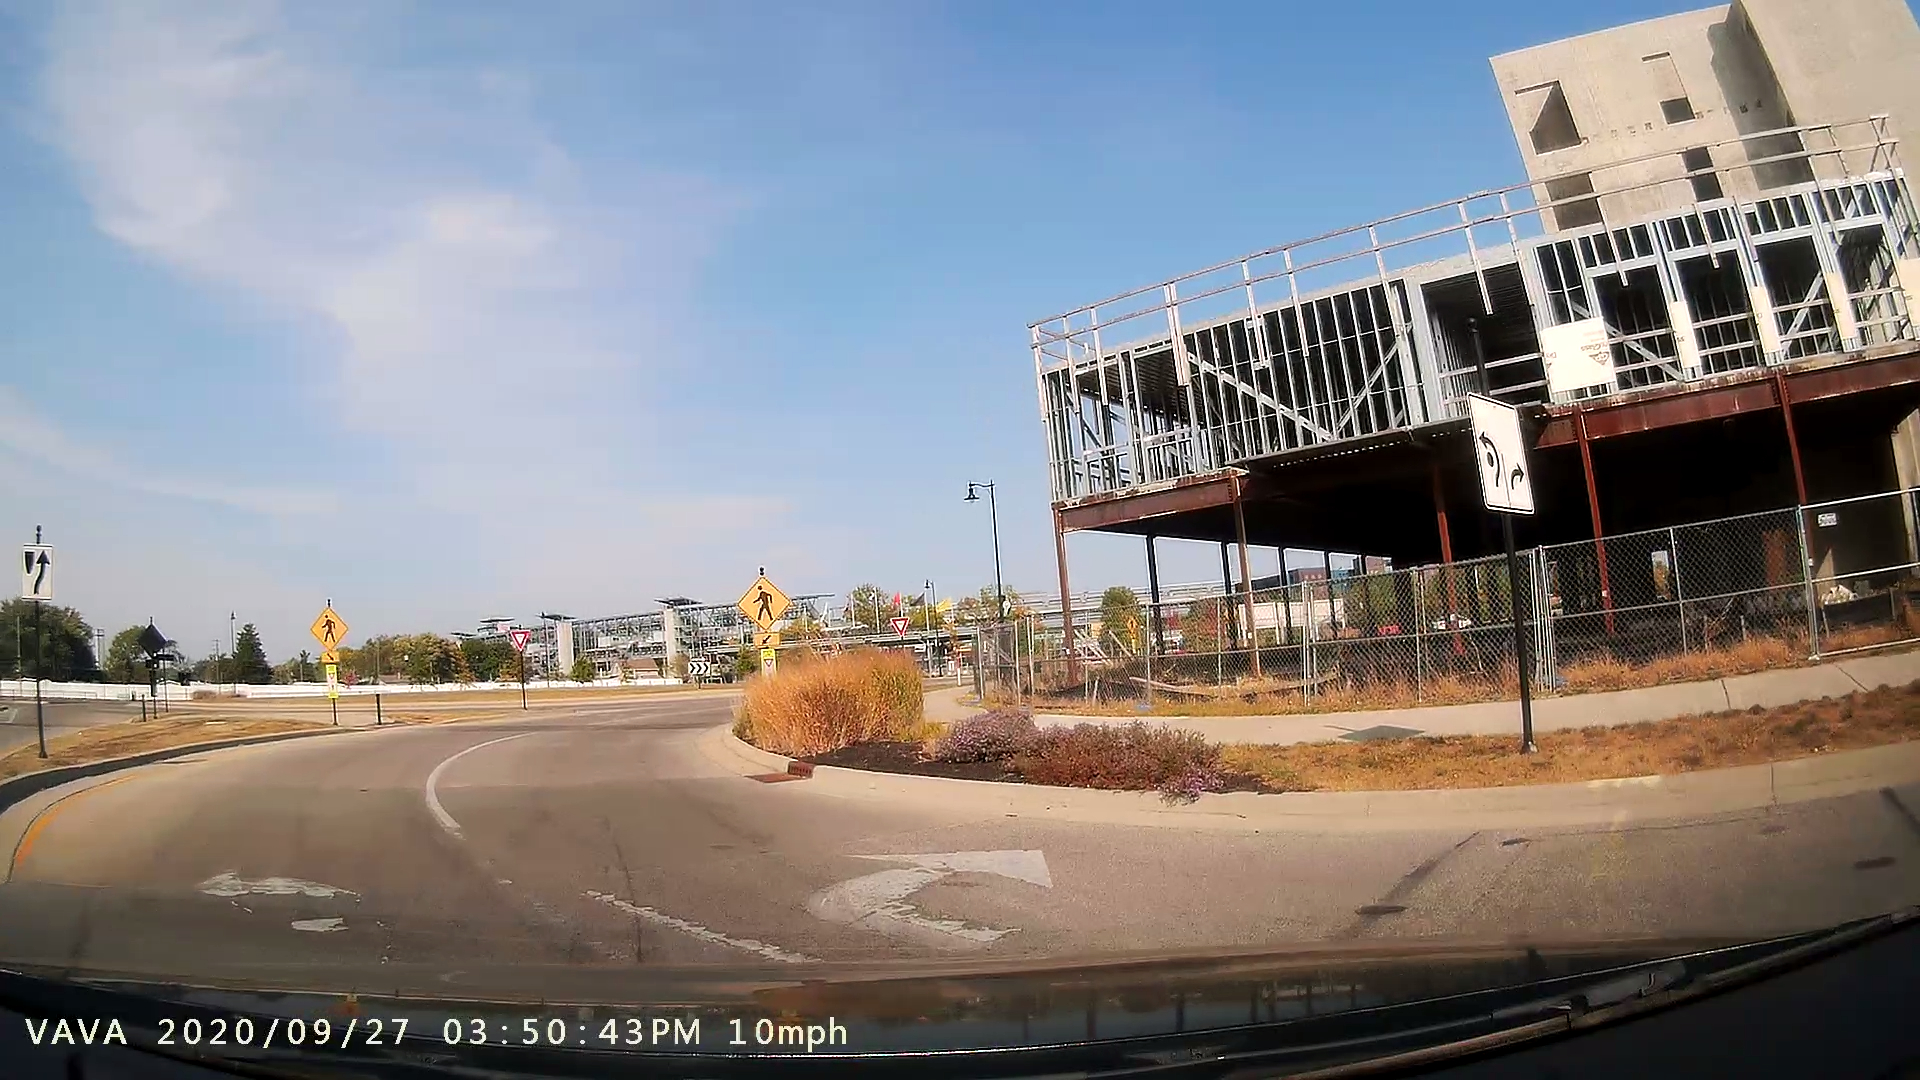right_turn: (793, 833, 1058, 956)
